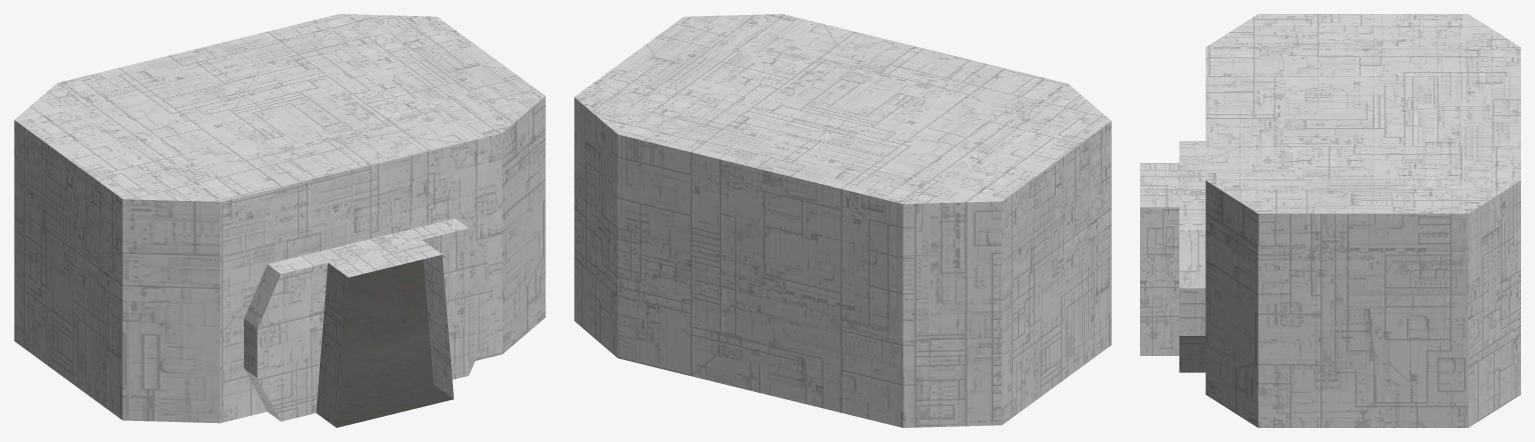
File: thm_spc_star_destroyer_s01_r19_room04_mesh_r19.fbx
3 views of the same model, side by side, from view 1: azimuth 30°, elevation 25°; view 2: azimuth 150°, elevation 25°; view 3: azimuth 270°, elevation 25° (orthographic). The views are drawn at different scales.
Visible parts, largest first — view 1: mesh_node; view 2: mesh_node; view 3: mesh_node.
Boxes of the visible parts, x1,y1,x2,y2 form: mesh_node: [14, 14, 545, 427]; mesh_node: [574, 14, 1111, 427]; mesh_node: [1140, 14, 1520, 427].
Size of the model in its own units: 9 by 4.5 by 7.25.
Materials: 2 (2 with a texture image).
